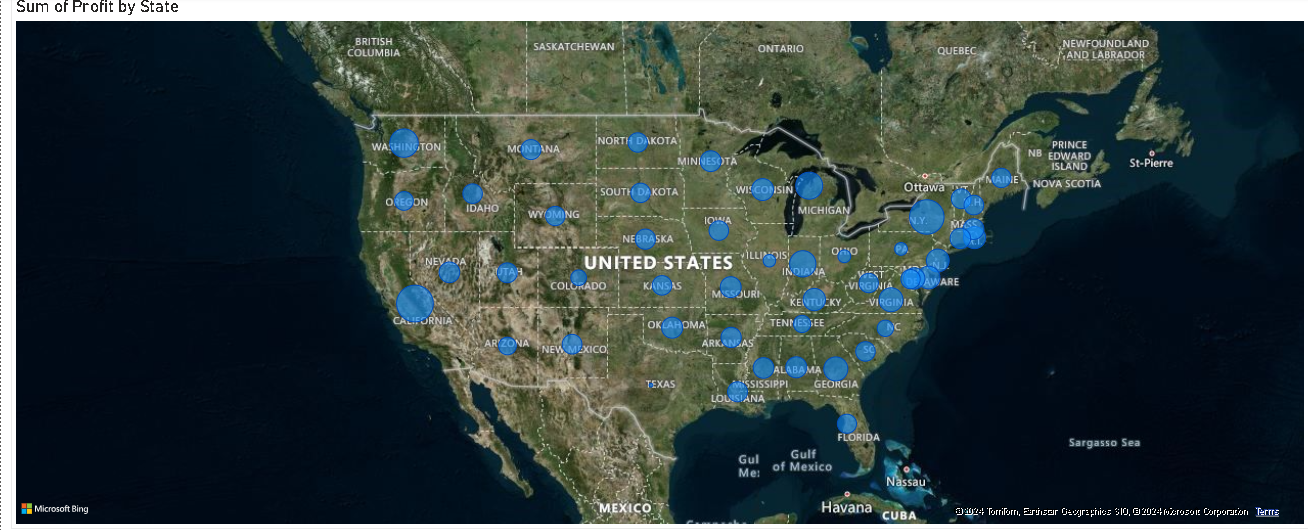

The page's visual inventory and layout, read from the dashboard file:
{"tool":"powerbi","page":{"name":"Only Map","canvas":[1280,720],"ordinal":2},"visuals":[{"type":"map","fields":{"Category":["Sheet1.State"],"Size":["Sum(Sheet1.Profit)"]},"box":[9.8,0,1270.1,520.7],"z":0}]}

Visuals, with their boxes on the page's 1280x720 design canvas (x1, y1, x2, y2). These are canvas units, not pixel positions in the 1308x530 screenshot, which may show the page scaled, cropped or inside an application window:
map - Sheet1.State x Sum(Sheet1.Profit): bbox=(10, 0, 1280, 521)
